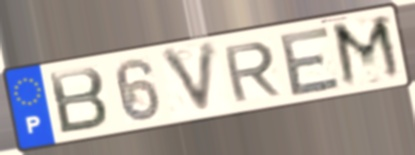6: (113, 57, 164, 124)
B: (45, 65, 111, 138)
E: (278, 23, 344, 99)
M: (328, 12, 407, 91)
R: (220, 39, 284, 105)
V: (157, 38, 221, 119)
